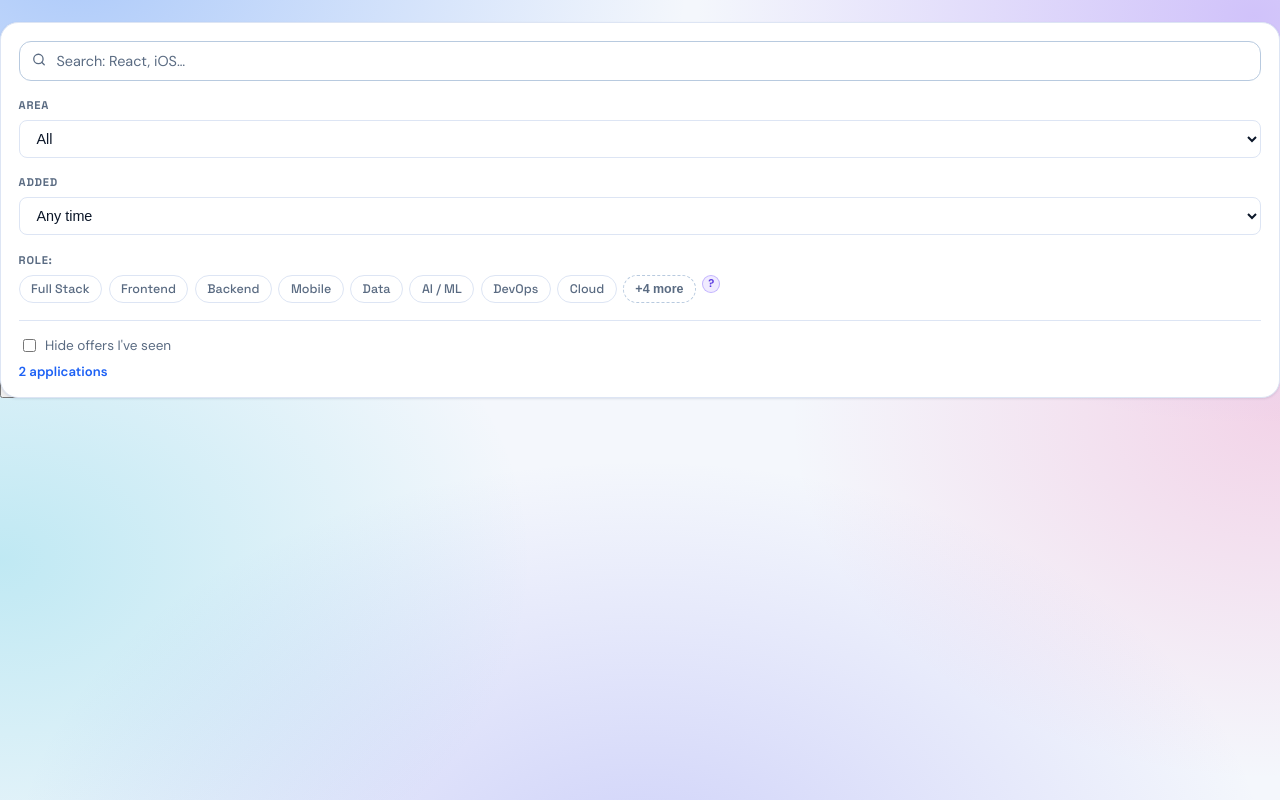
Sidebar › expands the role list
This screenshot has width=1280, height=800.
Click the button "+4 more". click: (659, 289)
box: [623,275,696,303]
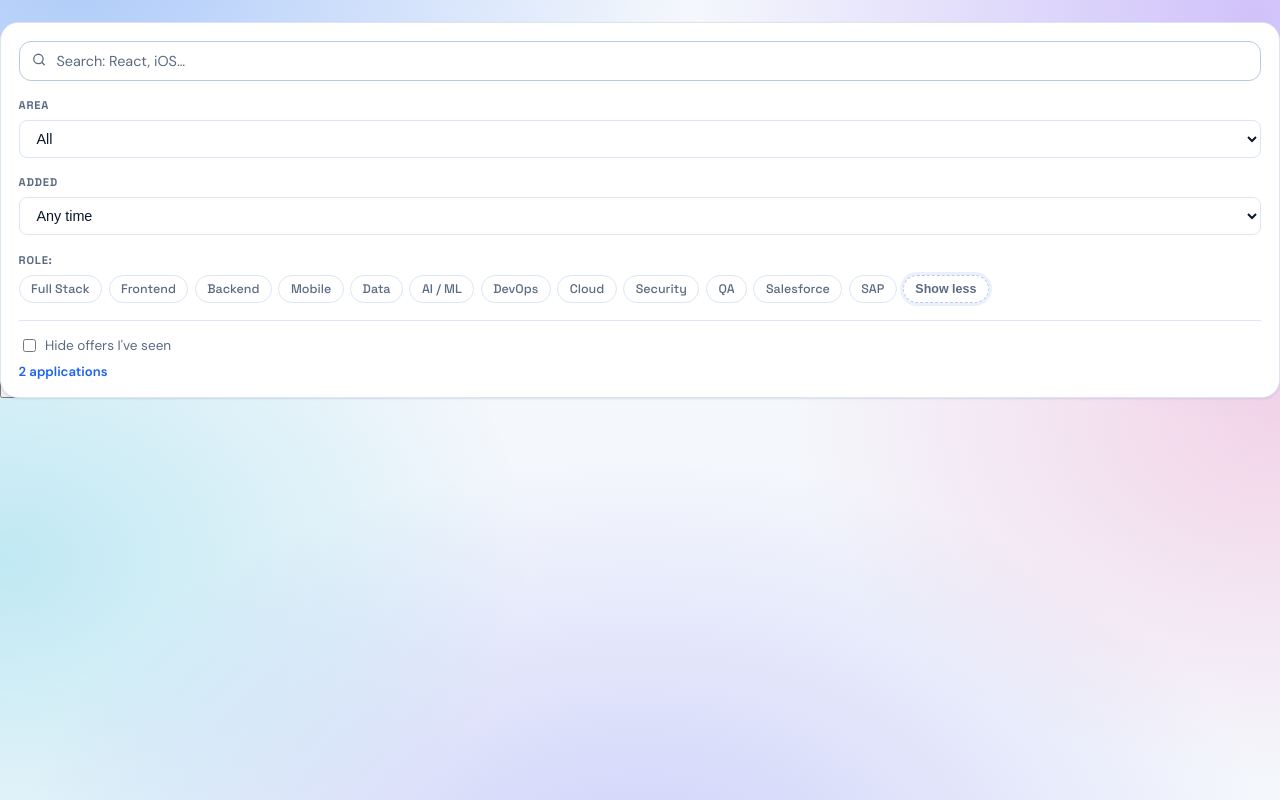
Expected: the button "Show less" is shown, [903,275,989,303]
